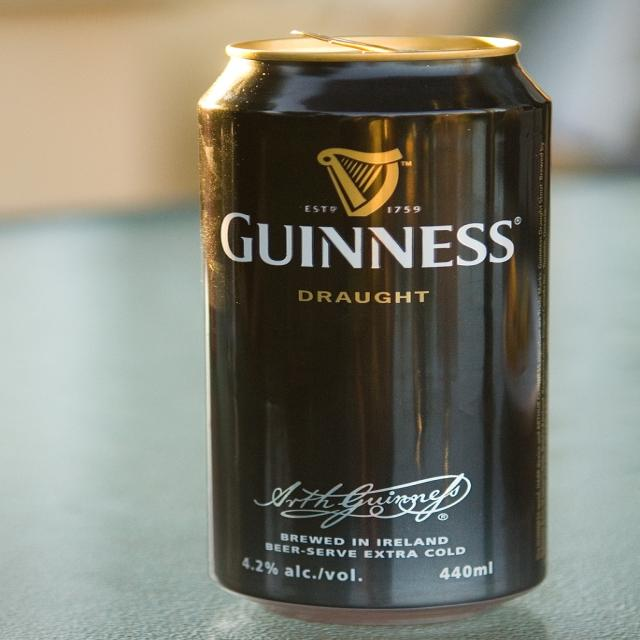guiness: (214, 145, 520, 272)
